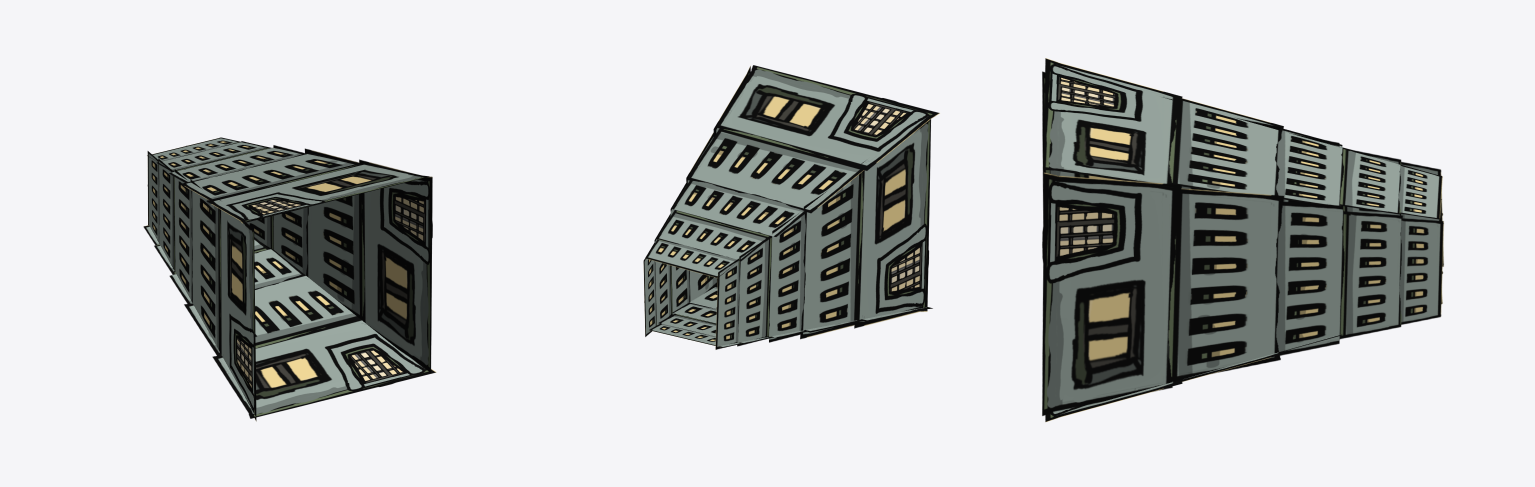
File: tower_commercial3D.gltf
The picture shows the model from 3 angles, left to right: view 1: azimuth 30°, elevation 25°; view 2: azimuth 150°, elevation 25°; view 3: azimuth 270°, elevation 25°; orthographic projection. The views are drawn at different scales.
Parts seen in each view (by area): view 1: tower-commercial-near.003; view 2: tower-commercial-near.003; view 3: tower-commercial-near.003.
Part boxes in pixels (x1,y1,x2,y2): tower-commercial-near.003: [143, 137, 436, 421]; tower-commercial-near.003: [643, 65, 939, 349]; tower-commercial-near.003: [1042, 58, 1443, 422].
Bounding box in the file's own units: 4.15 × 4.15 × 5.1.
1 material, 1 textured.
